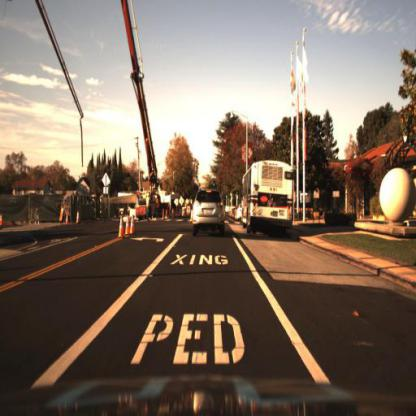car: (186, 183, 229, 238)
pedestrian: (143, 189, 153, 227), (154, 193, 162, 222)
truck: (29, 1, 167, 220), (239, 157, 304, 242)
